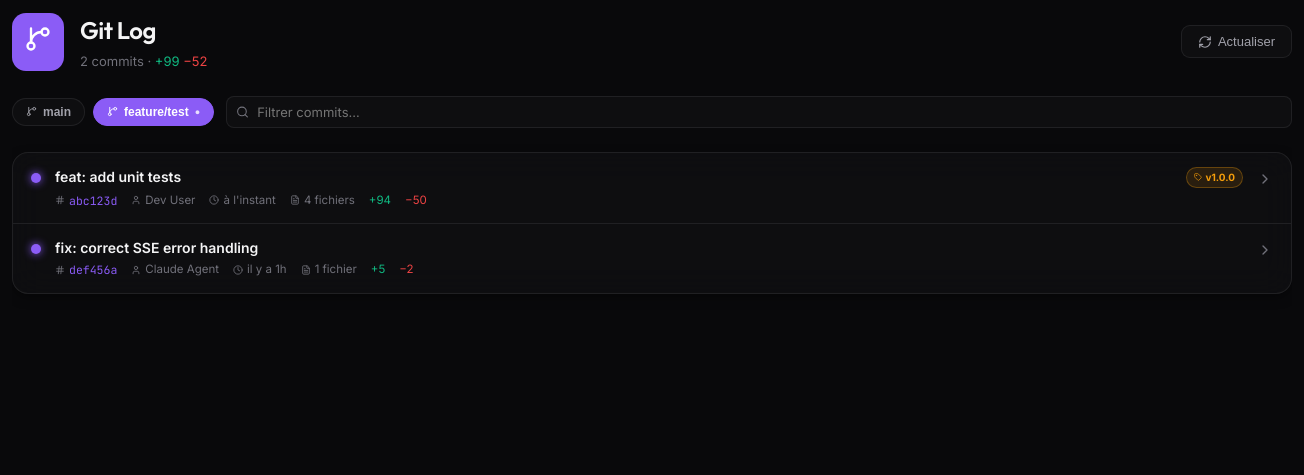
GitLogModule — expand/collapse commit › shows file list after clicking commit row
The width and height of the screenshot is (1304, 475).
Click the text "feat: add unit tests" at (118, 176), box [55,168,181,184]
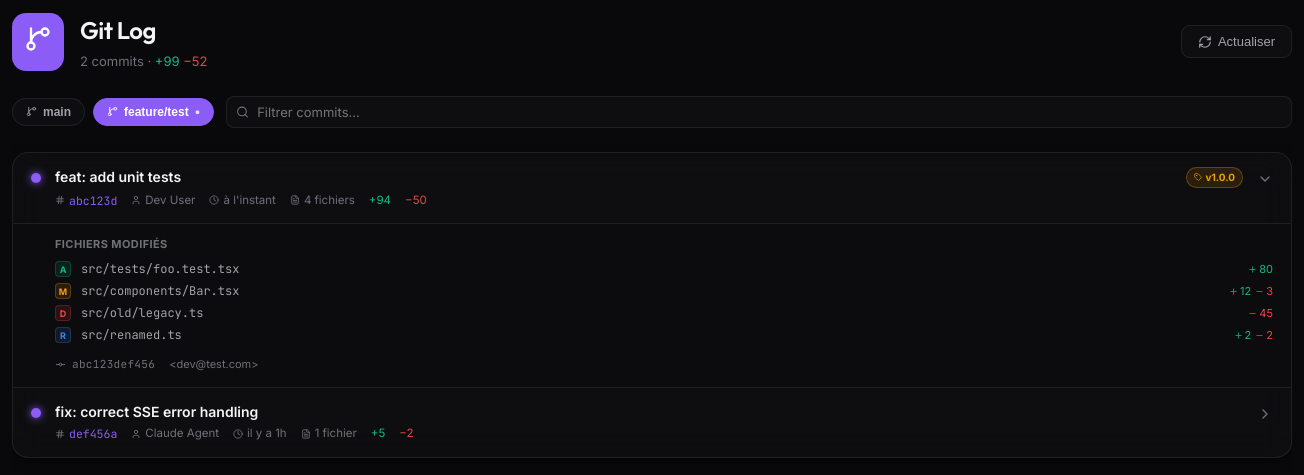
Result: the text "Fichiers modifiés" is shown at [55,237,168,251]
